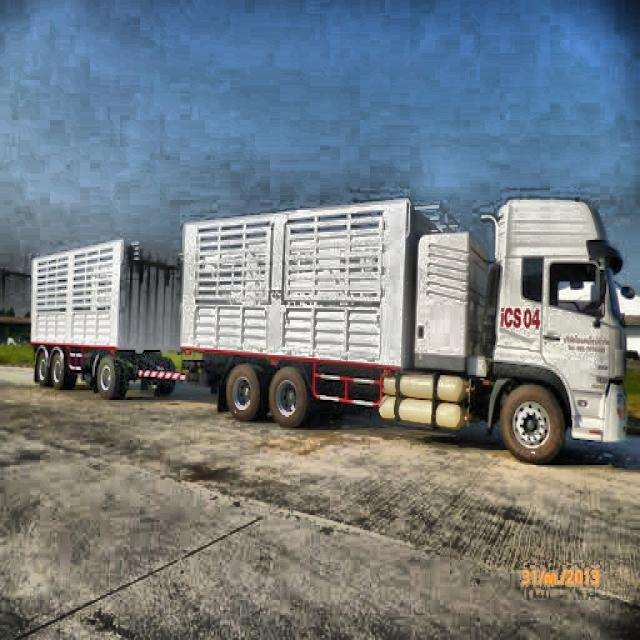trailer: (27, 183, 640, 480)
